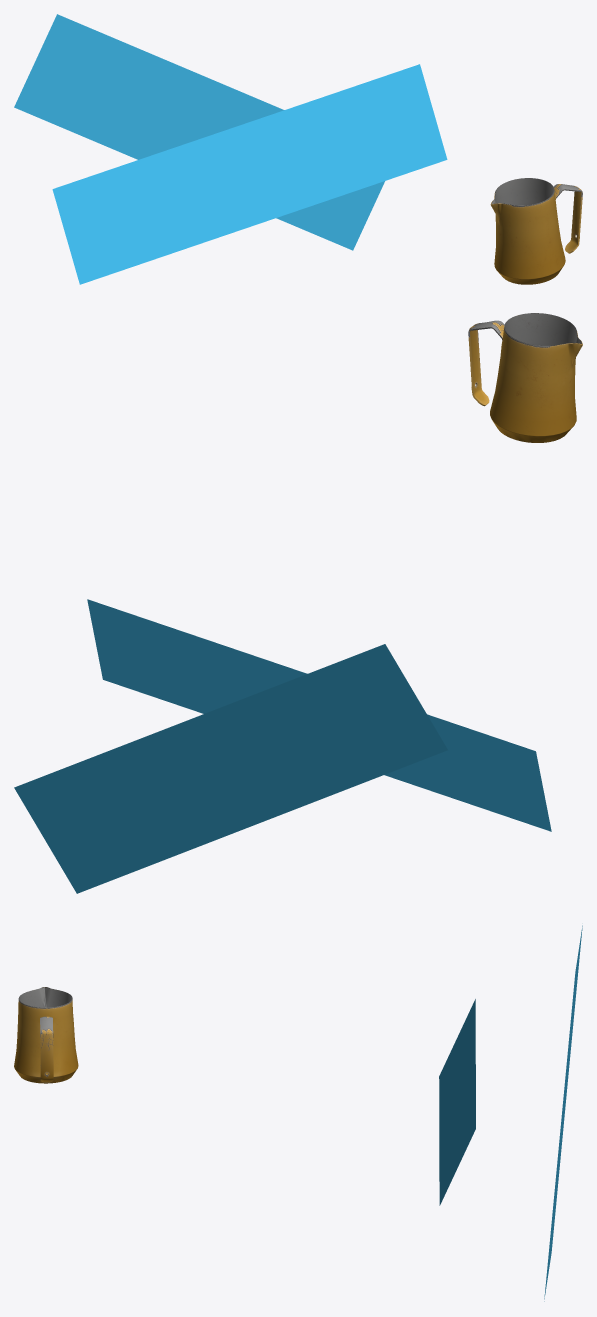
Rendered from barista_equipment_-_milk_pitcher.glb.
3 renders of one model, top to bottom at view 1: azimuth 30°, elevation 25°; view 2: azimuth 150°, elevation 25°; view 3: azimuth 270°, elevation 25°, orthographic. The views are drawn at different scales.
Parts seen in each view (by area): view 1: Plane.001, Plane.003, Cylinder; view 2: Plane.003, Plane.001, Cylinder; view 3: Cylinder, Plane.001, Plane.003.
Part boxes in pixels (bbox=[...]): Plane.001: bbox=[52, 64, 447, 284]; Plane.003: bbox=[14, 14, 384, 250]; Cylinder: bbox=[490, 178, 582, 284]; Plane.003: bbox=[14, 644, 447, 893]; Plane.001: bbox=[87, 599, 551, 831]; Cylinder: bbox=[468, 313, 582, 442]; Cylinder: bbox=[14, 987, 78, 1083]; Plane.001: bbox=[439, 999, 475, 1205]; Plane.003: bbox=[544, 925, 582, 1301].
Size of the model in its own units: 0.4981 by 0.3557 by 0.7042.
2 materials, 1 textured.
